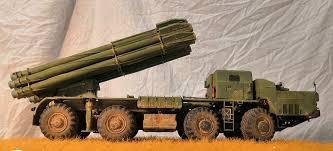MIL_SAM_TEL: (9, 18, 320, 140)
